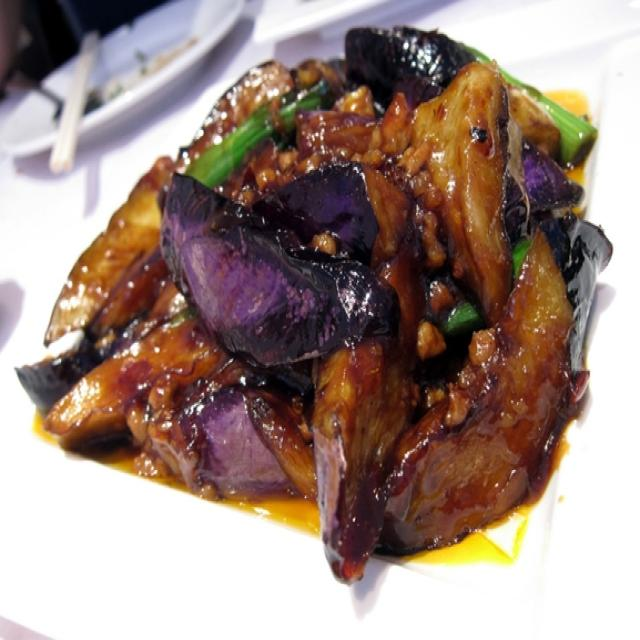鸡蛋料理: (23, 37, 611, 585)
